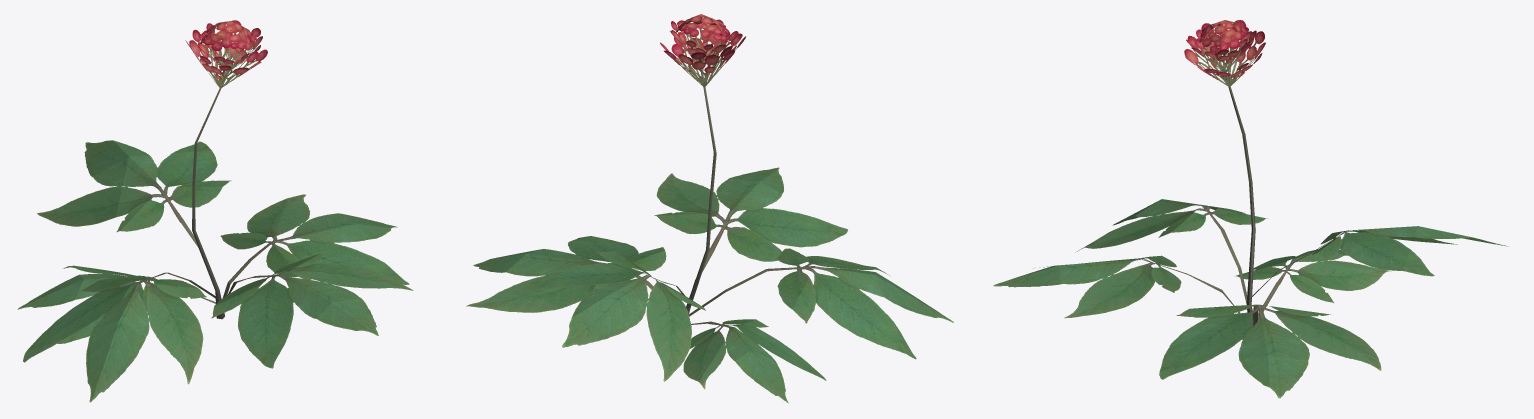
The model's file is bg_lut_foilage_medherb02_sm_artree.FBX.
The picture shows the model from 3 angles, left to right: view 1: azimuth 30°, elevation 25°; view 2: azimuth 150°, elevation 25°; view 3: azimuth 270°, elevation 25°; orthographic projection. The views are drawn at different scales.
Visible parts, largest first — view 1: bg_lut_foilage_medherb02_sm_artree; view 2: bg_lut_foilage_medherb02_sm_artree; view 3: bg_lut_foilage_medherb02_sm_artree.
Part boxes in pixels (left/top/right/bottom): bg_lut_foilage_medherb02_sm_artree: left=17, top=20, right=413, bottom=402; bg_lut_foilage_medherb02_sm_artree: left=466, top=14, right=953, bottom=403; bg_lut_foilage_medherb02_sm_artree: left=993, top=20, right=1508, bottom=398.
Bounding box in the file's own units: 77.69 × 55.47 × 84.75.
